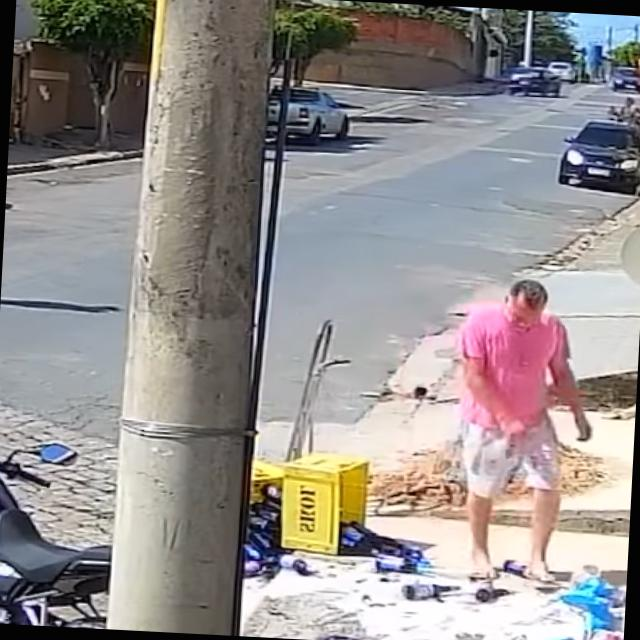person: (444, 276, 602, 590)
